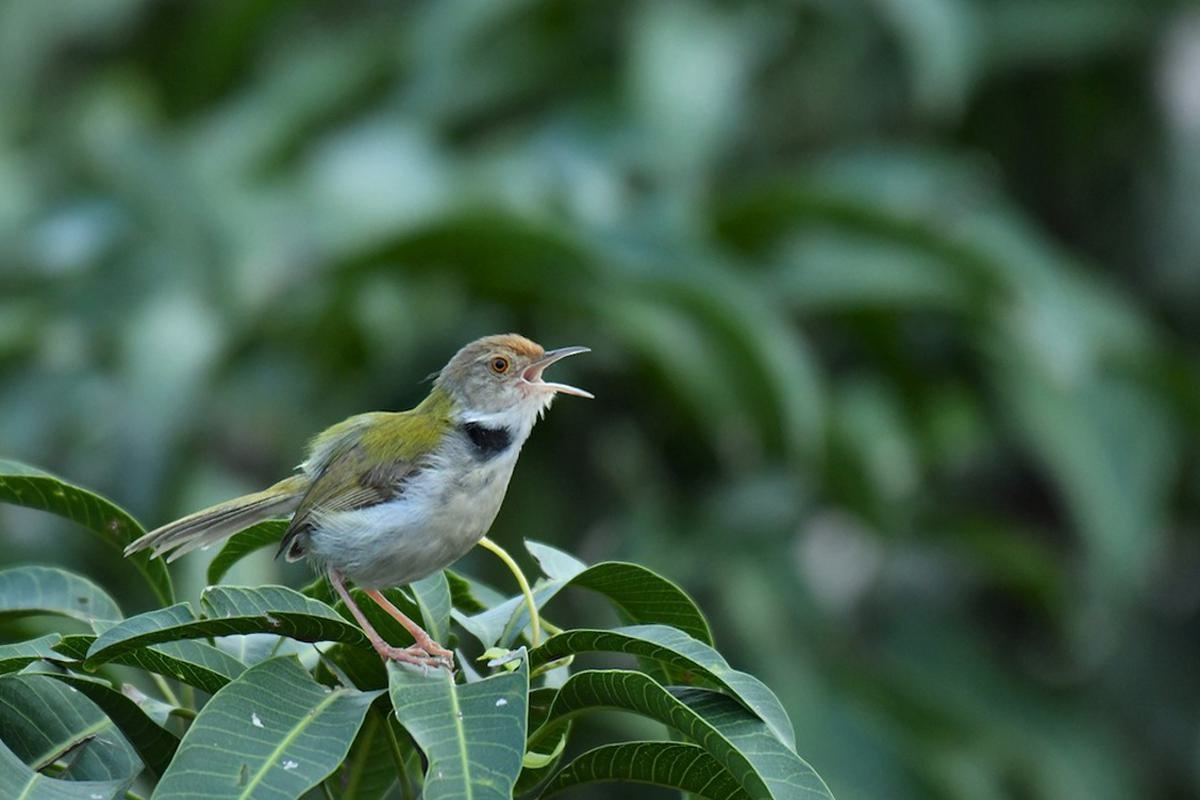tailorbird: (147, 285, 639, 634)
